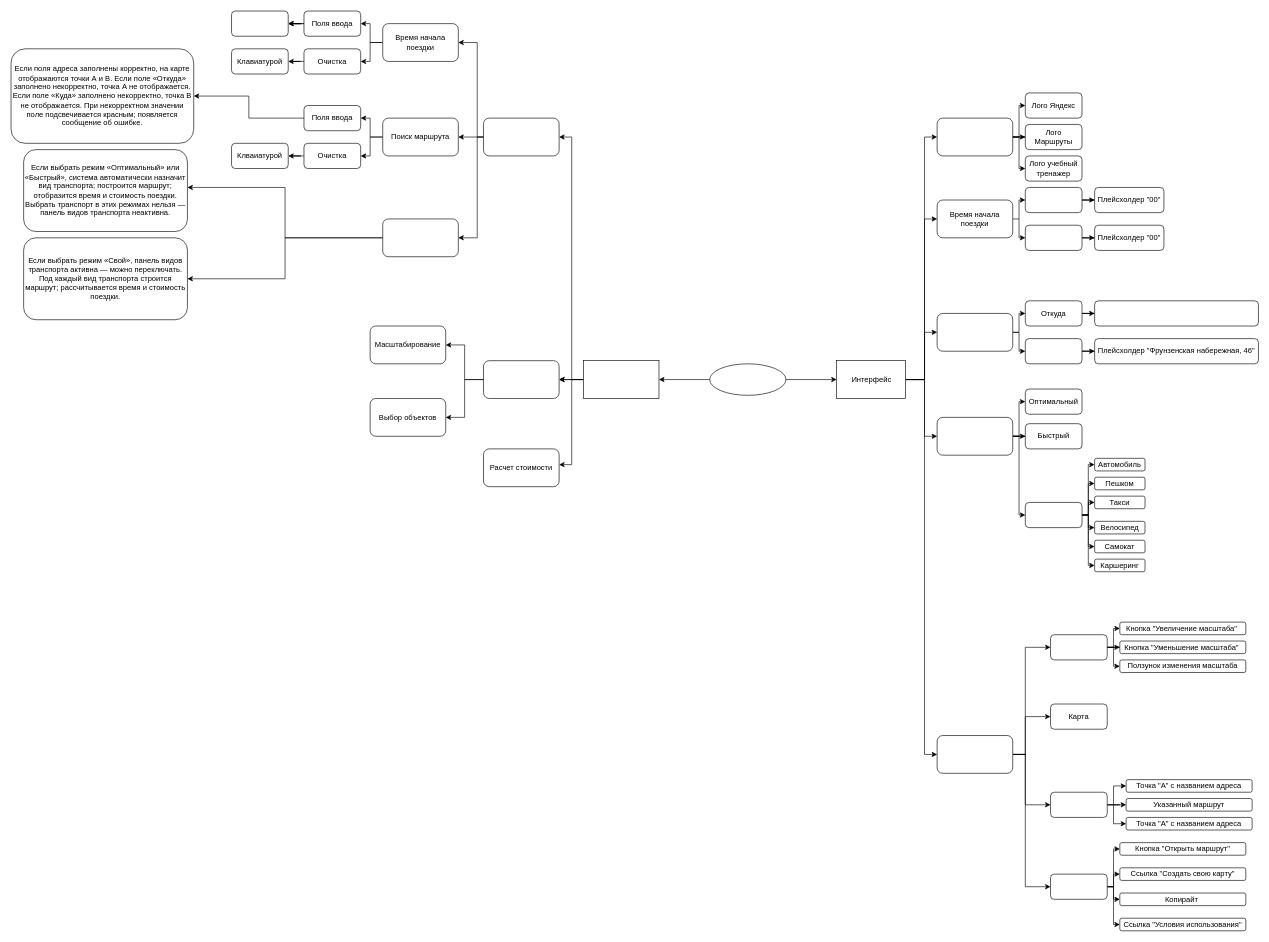
Image size: 1269x942. Some labels were removed from this diagram. The shapes that lost their labels are listed below. From the top down, each one's box as (x1, y1, x2, y2) in pixels, then its label:
(231, 10, 288, 36): Ввод времени
(483, 117, 559, 156): Построение маршрута
(936, 117, 1013, 156): Шапка
(1025, 187, 1082, 213): Часы
(382, 218, 458, 257): Выбор транспорта
(1025, 225, 1082, 250): Минуты
(936, 313, 1013, 351): Маршрутная панель
(1094, 300, 1258, 326): Плейсхолдер "Усачева, 3"
(1025, 338, 1082, 364): Куда
(483, 360, 559, 398): Работа с картой
(583, 360, 659, 398): Логика
(709, 363, 786, 395): Маршруты
(936, 417, 1013, 455): Вид транспорта
(1025, 502, 1082, 528): Свой
(1050, 634, 1107, 660): Масштаб
(936, 735, 1013, 773): Схема
(1050, 792, 1107, 817): Маршрут
(1050, 873, 1107, 899): Подвал
